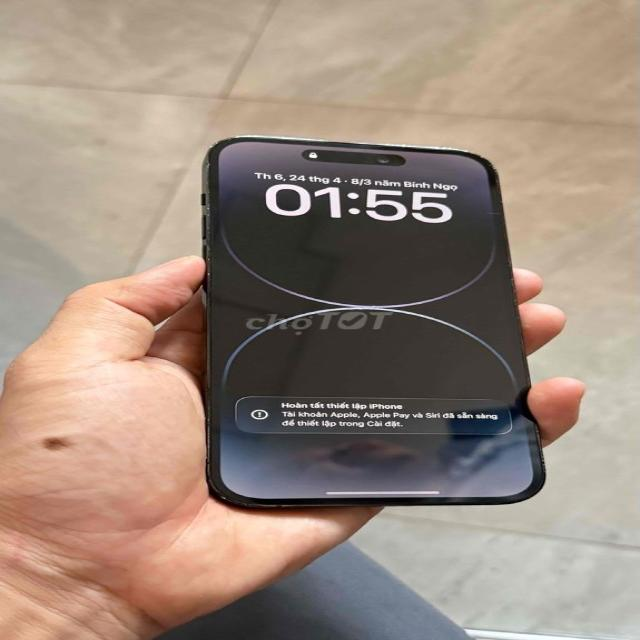gen_14: (186, 128, 552, 516)
